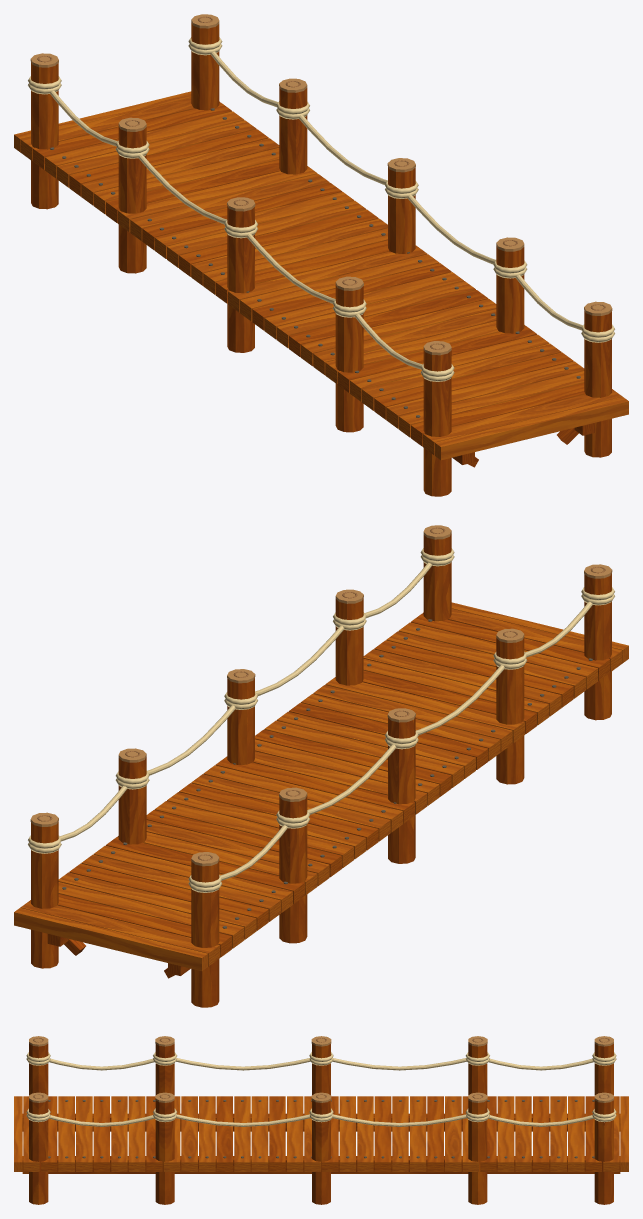
The model's file is wooden-bridge-7.gltf.
3 renders of one model, top to bottom at view 1: azimuth 30°, elevation 25°; view 2: azimuth 150°, elevation 25°; view 3: azimuth 270°, elevation 25°, orthographic. The views are drawn at different scales.
Parts seen in each view (by area): view 1: wooden-bridge-7; view 2: wooden-bridge-7; view 3: wooden-bridge-7.
Part boxes in pixels (x1,y1,x2,y2): wooden-bridge-7: (14,14,628,496); wooden-bridge-7: (14,525,628,1007); wooden-bridge-7: (14,1036,628,1204).
Size of the model in its own units: 1.8 by 1.31 by 7.
Materials: 2 (1 with a texture image).
